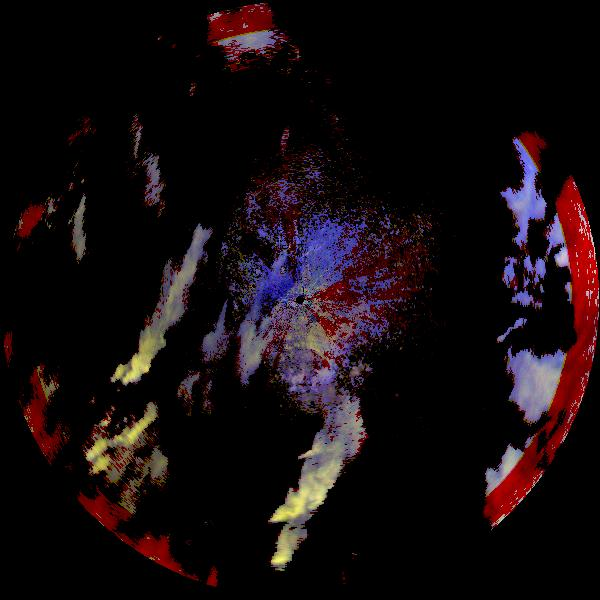roost: (270, 331, 345, 406)
